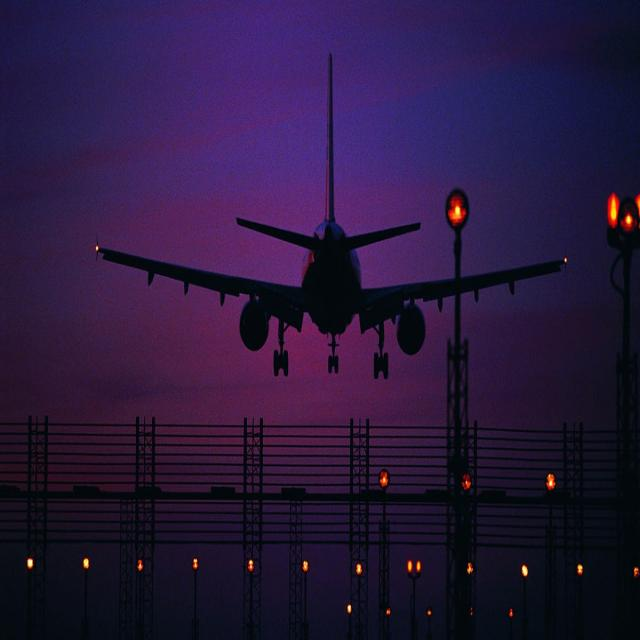plane: (88, 30, 572, 384)
